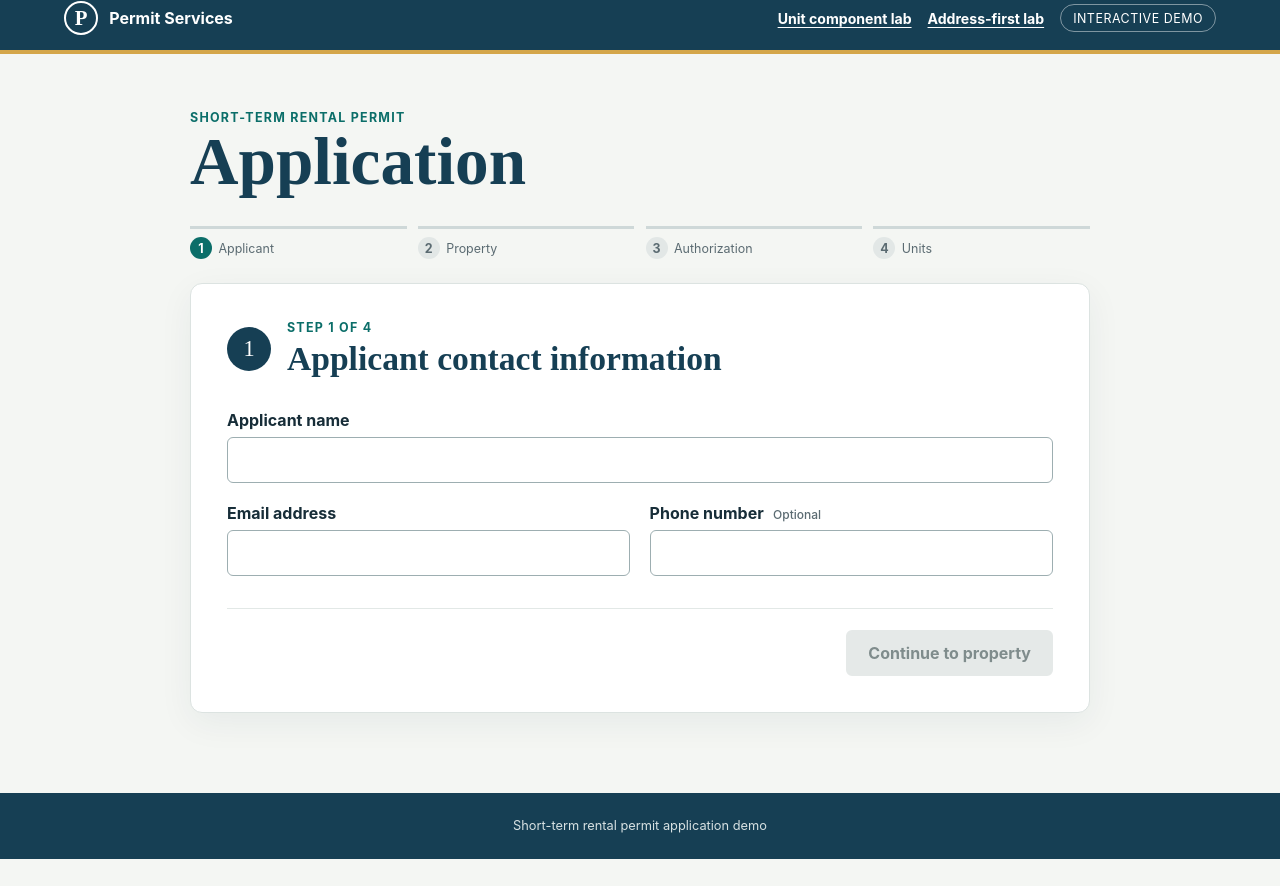
Test case: STR permit application › shows exact guidance when another autocomplete address is selected
The image size is (1280, 886).
Type "Taylor Morgan" into the field with id "applicant-name".
click(640, 460); type("Taylor Morgan")  # box [227,437,1053,483]
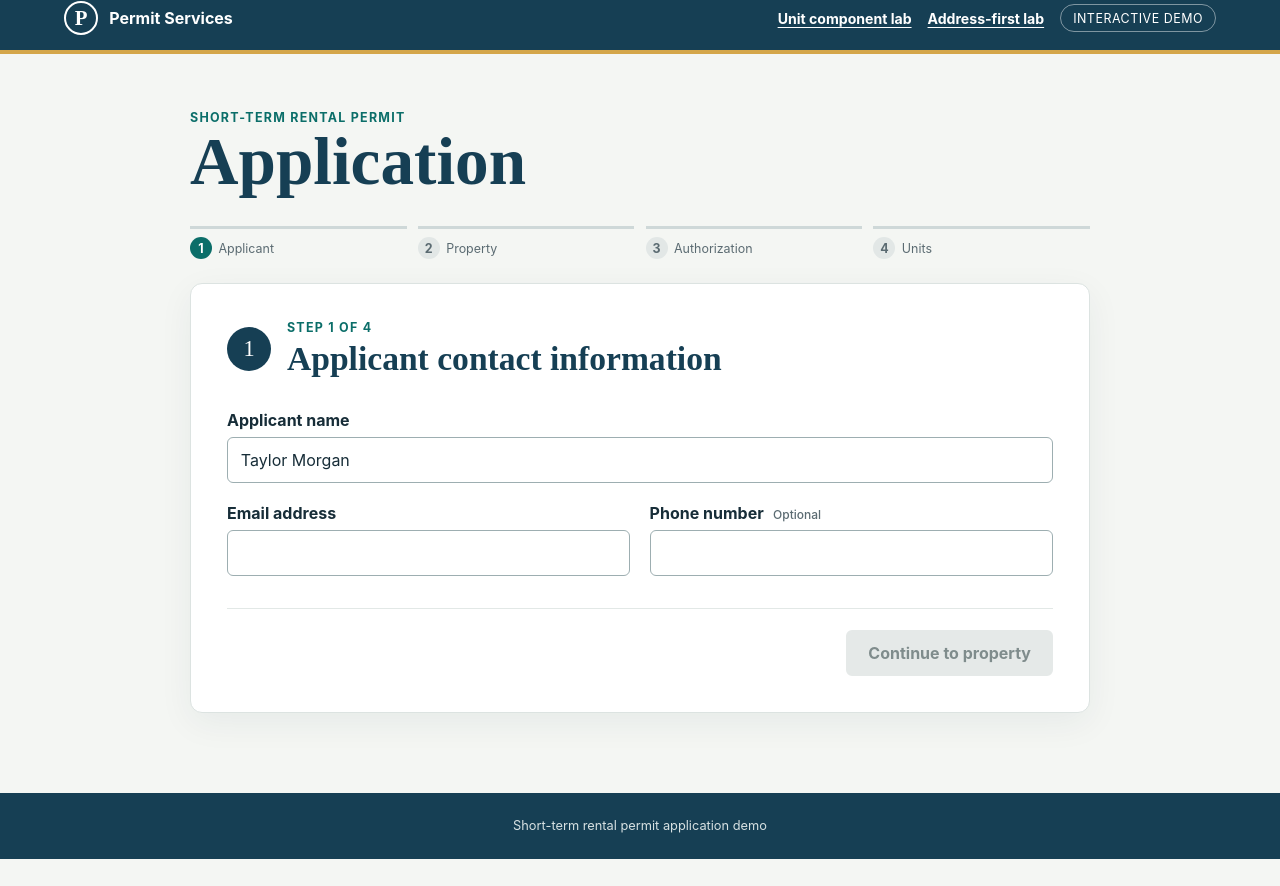
Type "taylor@example.com" into the field with id "applicant-email".
click(429, 553); type("taylor@example.com")  # box [227,530,630,576]
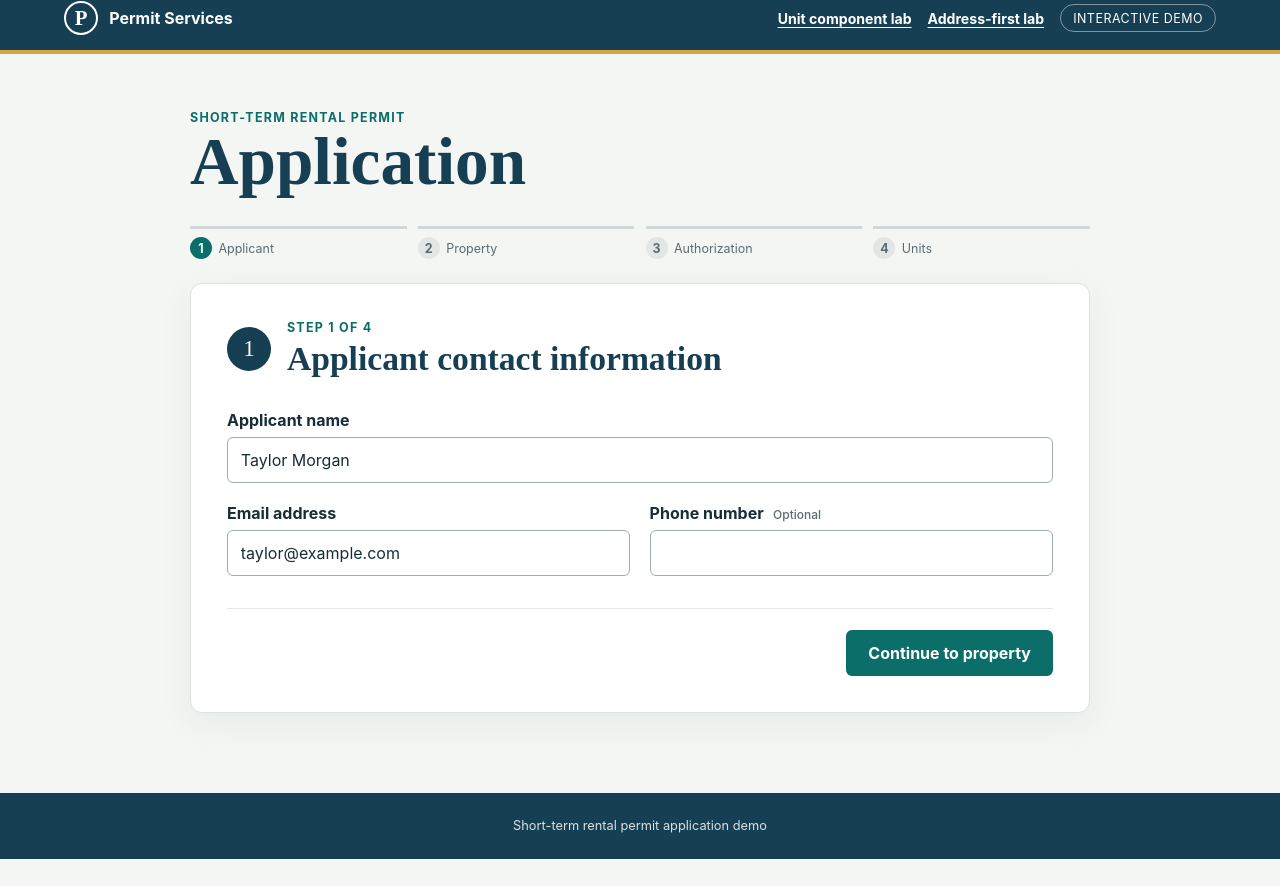
Click the button "Continue to property".
click(950, 653)  # box [846,630,1053,676]
(page scrolled)
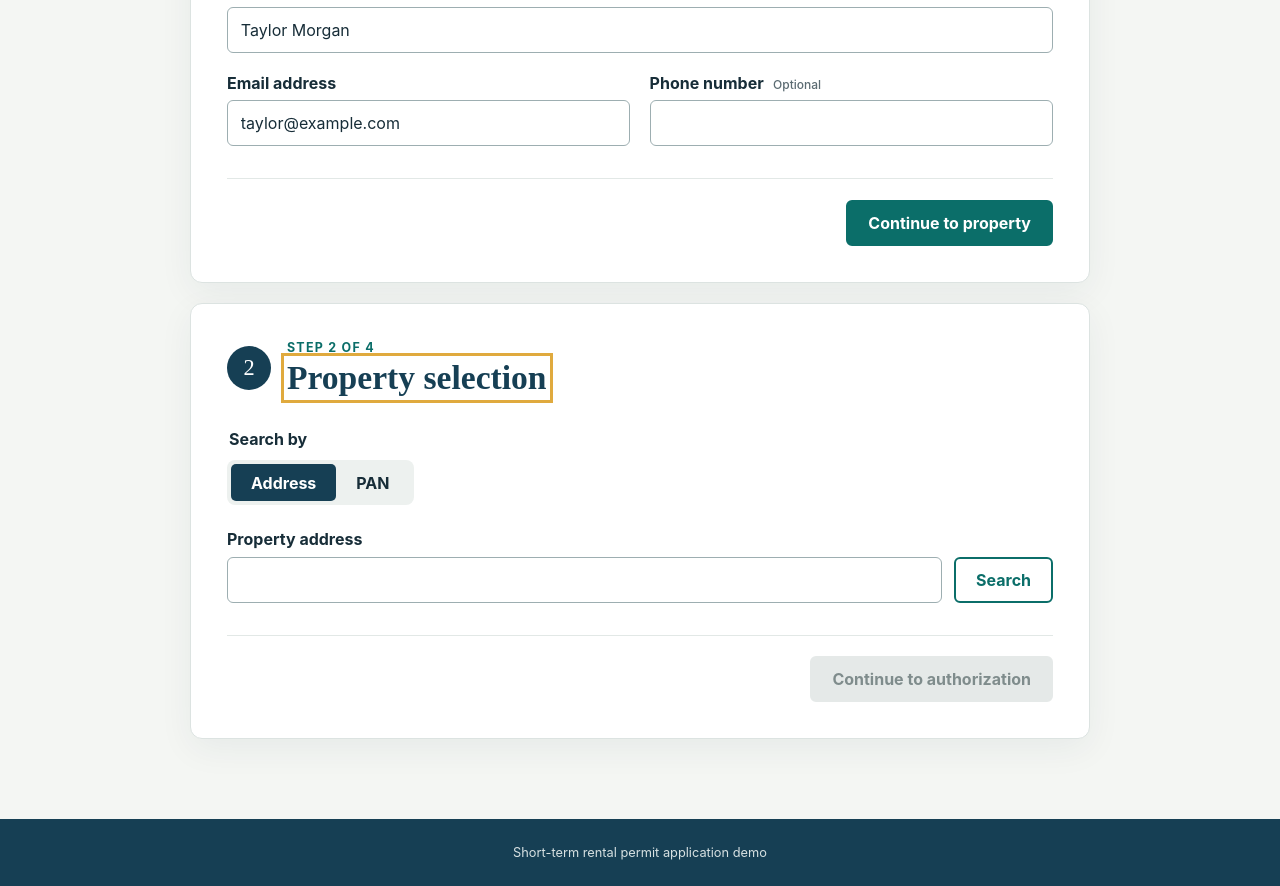
Type "127 Main St" into the field with id "address-search".
click(584, 580); type("127 Main St")  # box [227,556,942,602]
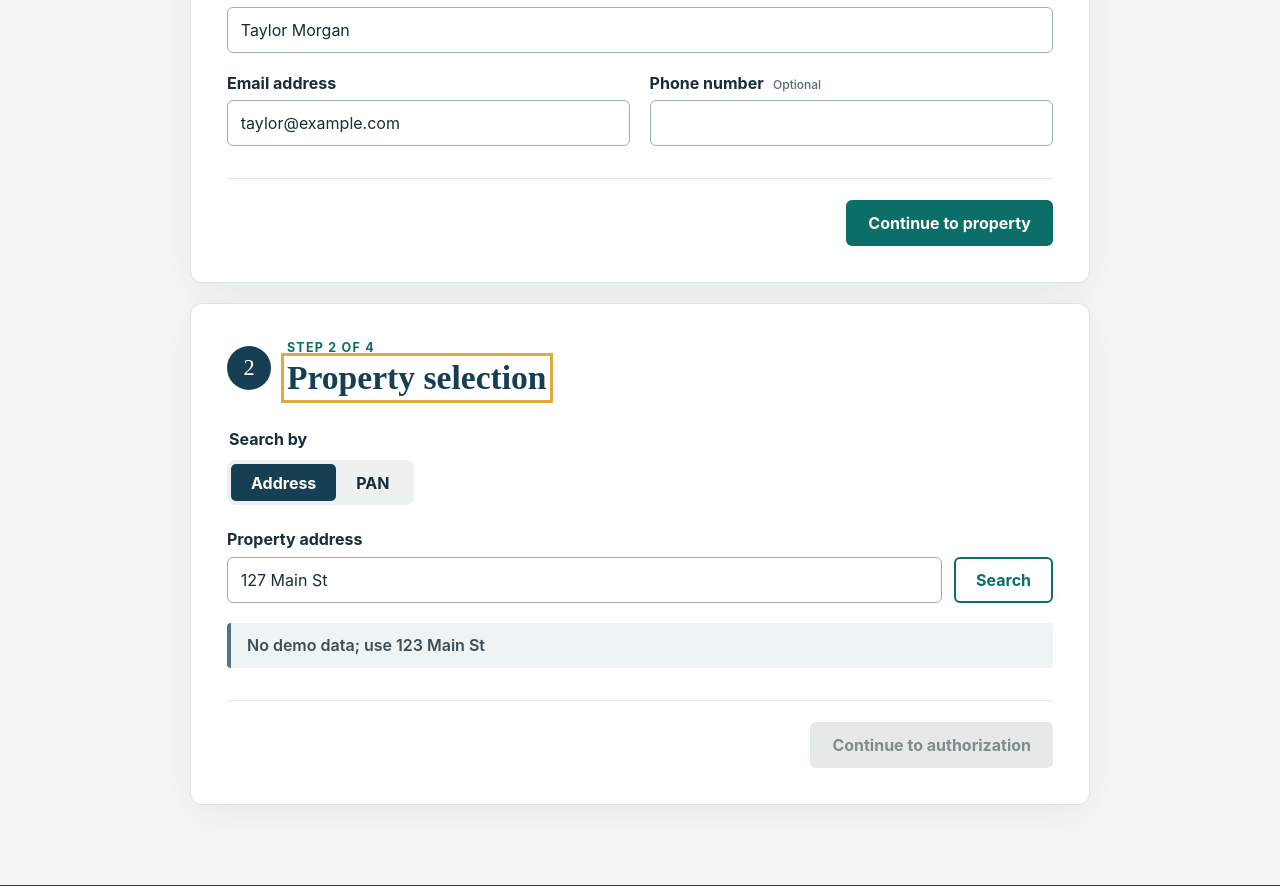
Check: the button "Continue to authorization" is disabled, box [810,722,1053,768]
Check: the text "No demo data; use 123 Main St" is shown, box [227,622,1053,668]
